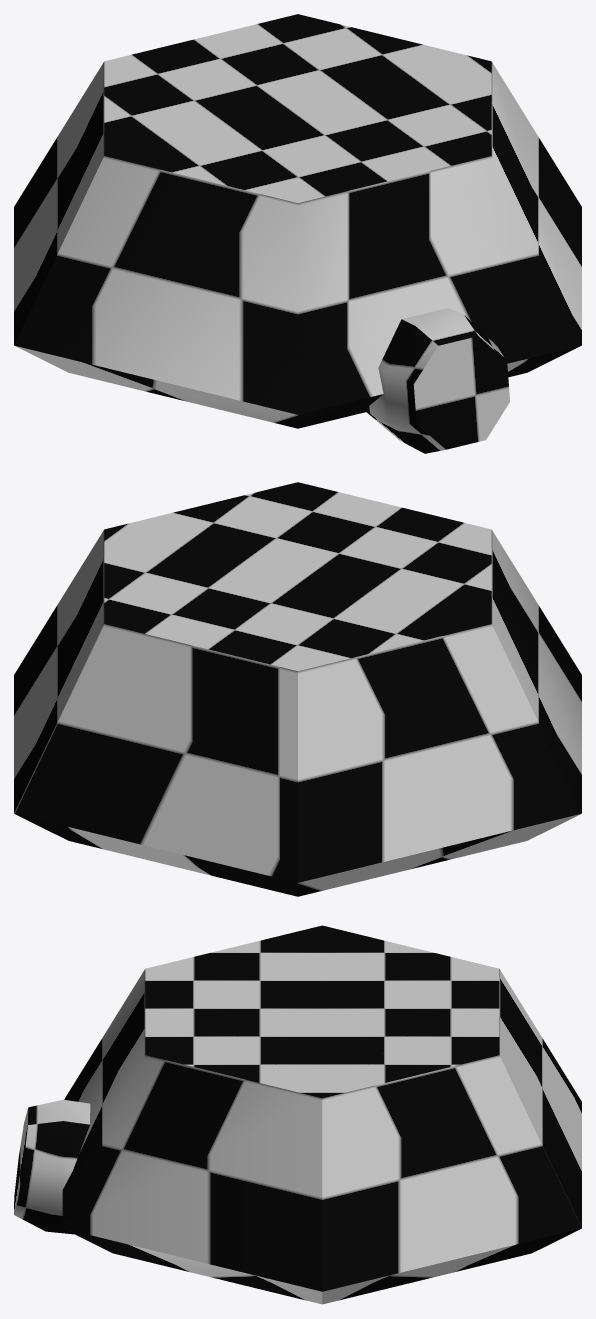
File: cbs_module_platform_lvl1.obj
3 renders of one model, top to bottom at view 1: azimuth 30°, elevation 25°; view 2: azimuth 150°, elevation 25°; view 3: azimuth 270°, elevation 25°, orthographic. The views are drawn at different scales.
Visible parts, largest first — view 1: main; view 2: main; view 3: main.
Boxes of the visible parts, x1,y1,x2,y2 form: main: (14,14,581,453); main: (14,482,581,896); main: (14,925,581,1304).
Bounding box in the file's own units: 149 × 59.08 × 141.
1 material, 1 textured.
